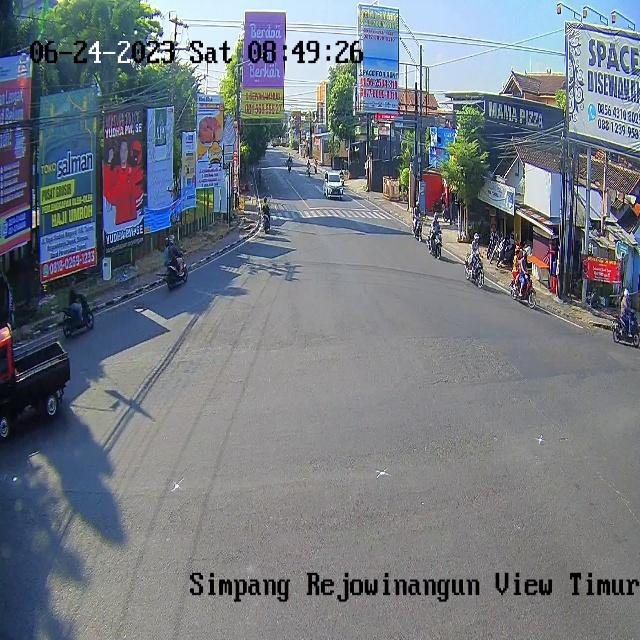bus: (62, 293, 94, 338), (613, 309, 640, 348), (511, 271, 536, 308), (167, 250, 188, 288), (464, 252, 484, 288), (428, 228, 442, 258), (412, 216, 423, 240), (262, 213, 270, 233)
motorcycle: (323, 171, 343, 200)
truck: (0, 321, 69, 440)
